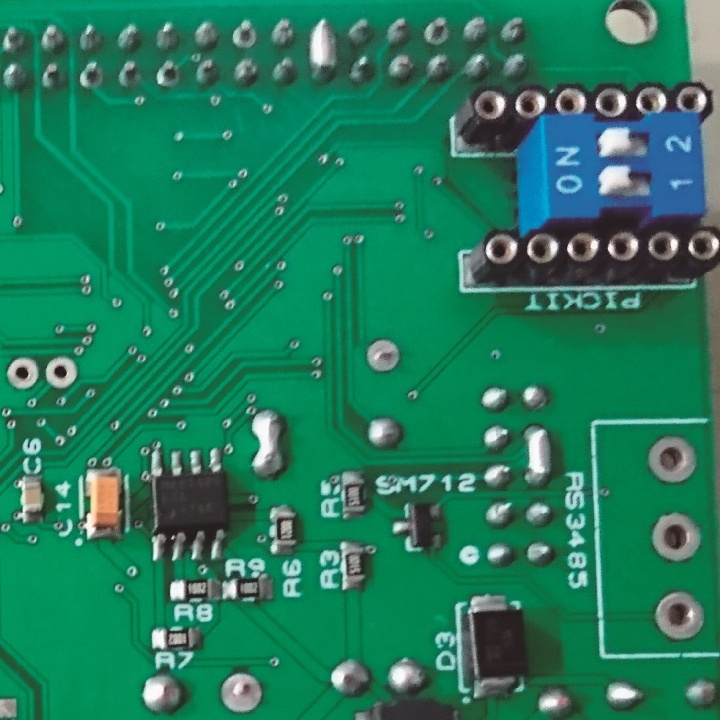F: (648, 506, 705, 564), (654, 588, 705, 644), (649, 435, 696, 486), (217, 668, 265, 714), (44, 353, 83, 389), (6, 351, 39, 391), (367, 335, 400, 375), (423, 16, 453, 49), (230, 18, 259, 49), (153, 58, 181, 87), (79, 62, 105, 89)
P: (247, 406, 289, 481), (523, 420, 556, 490), (307, 18, 339, 86)
